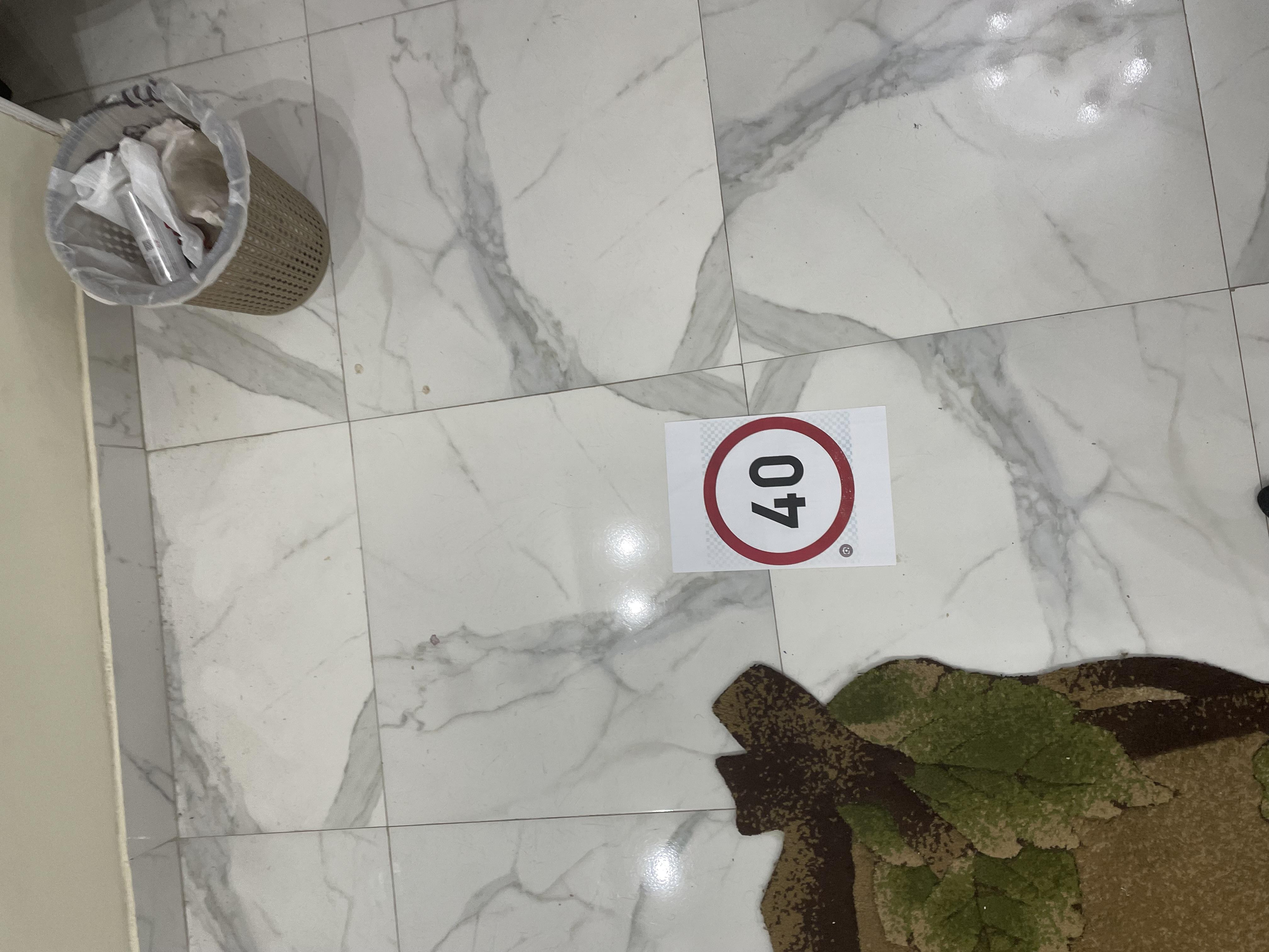40-Speed: (509, 520, 724, 643)
